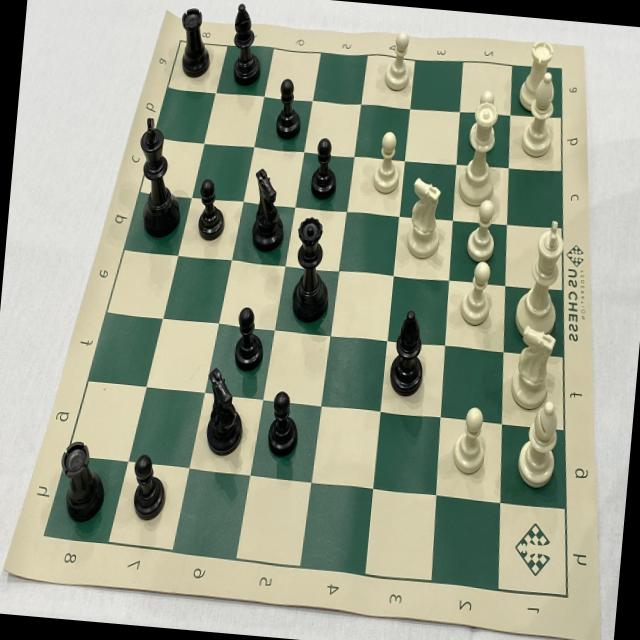black-bishop: (386, 304, 432, 401), (224, 0, 266, 91)
black-king: (130, 114, 191, 242)
black-knight: (196, 361, 249, 464), (248, 160, 290, 256)
black-pawn: (126, 446, 172, 528), (262, 384, 306, 459), (192, 172, 232, 248), (229, 304, 269, 375), (306, 132, 343, 208), (274, 74, 308, 144)
black-queen: (285, 208, 337, 330)
black-rook: (54, 434, 112, 528), (172, 1, 215, 85)
white-bishop: (512, 395, 564, 488), (516, 68, 561, 162)
white-king: (511, 211, 568, 341)
white-knight: (506, 321, 560, 415), (402, 175, 448, 266)
white-pawn: (448, 402, 490, 480), (457, 258, 498, 332), (380, 28, 418, 96), (464, 86, 502, 153), (464, 196, 500, 266), (369, 130, 404, 200)
white-queen: (452, 102, 508, 208)
white-rook: (514, 30, 558, 116)
